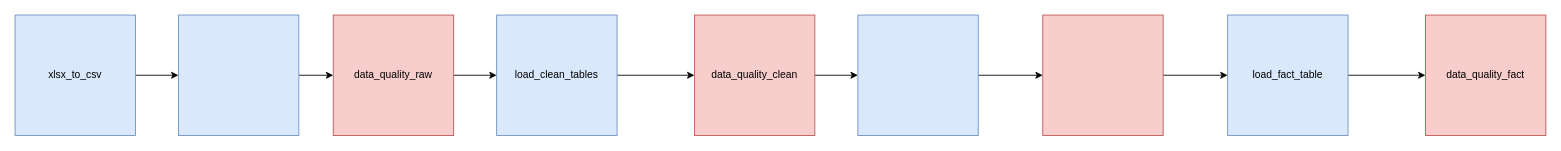
Some shapes in this 1561 by 151 pixel diagram are drawn without their labels. The centre of each missing label's shape, as x and y in pixels:
data_quality_dim: point 1102,74
load_dimension_tables: point 917,74
load_staging_tables: point 238,74
